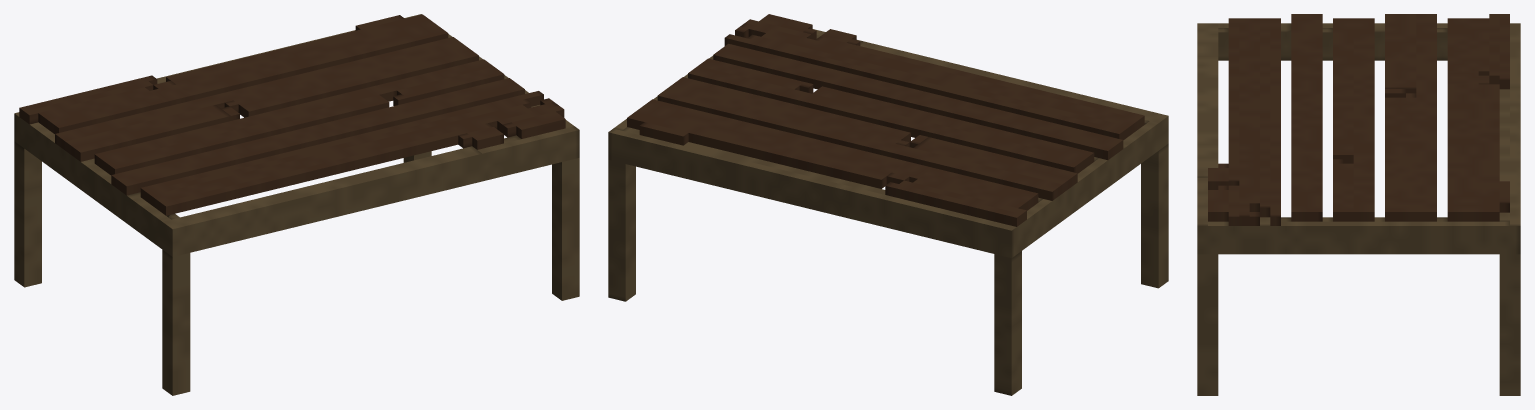
The model's file is stolik_centrum_dowodzeni.dae.
3 views of the same model, side by side, from view 1: azimuth 30°, elevation 25°; view 2: azimuth 150°, elevation 25°; view 3: azimuth 270°, elevation 25° (orthographic). The views are drawn at different scales.
Visible parts, largest first — view 1: Content; view 2: Content; view 3: Content.
Part boxes in pixels (x1,y1,x2,y2): Content: [14, 14, 579, 395]; Content: [608, 14, 1168, 395]; Content: [1197, 14, 1520, 395].
Size of the model in its own units: 46 by 19 by 31.
Materials: 1 (1 with a texture image).
